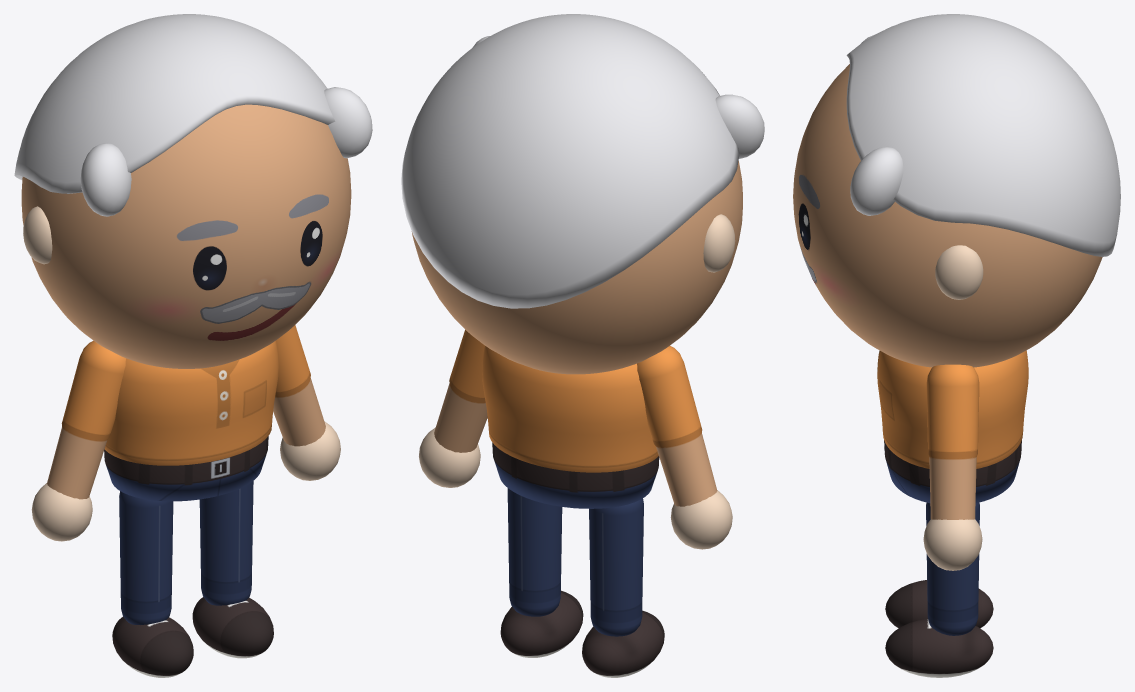
The model's file is male_03_moustache_casual.glb.
The picture shows the model from 3 angles, left to right: view 1: azimuth 30°, elevation 25°; view 2: azimuth 150°, elevation 25°; view 3: azimuth 270°, elevation 25°; orthographic projection.
Parts seen in each view (by area): view 1: male_03_moustache_Head_Base_face, male_03_moustache_Head_Base_hair, male_03_moustache_Body_Casual_shirt, male_03_moustache_ArmR_Casual_sleeve, male_03_moustache_LegR_Base_leg, male_03_moustache_LegL_Base_leg, male_03_moustache_Body_Base_hip, male_03_moustache_ArmL_Casual_sleeve, male_03_moustache_LegL_Base_shoe, male_03_moustache_LegR_Base_shoe, male_03_moustache_ArmR_Base_skin, male_03_moustache_ArmL_Base_skin (+1 smaller); view 2: male_03_moustache_Head_Base_hair, male_03_moustache_Head_Base_face, male_03_moustache_Body_Casual_shirt, male_03_moustache_ArmR_Casual_sleeve, male_03_moustache_LegR_Base_leg, male_03_moustache_LegL_Base_leg, male_03_moustache_Body_Base_hip, male_03_moustache_ArmL_Casual_sleeve, male_03_moustache_LegL_Base_shoe, male_03_moustache_LegR_Base_shoe, male_03_moustache_ArmR_Base_skin, male_03_moustache_ArmL_Base_skin (+1 smaller); view 3: male_03_moustache_Head_Base_hair, male_03_moustache_Head_Base_face, male_03_moustache_Body_Casual_shirt, male_03_moustache_ArmL_Casual_sleeve, male_03_moustache_LegL_Base_shoe, male_03_moustache_LegL_Base_leg, male_03_moustache_Body_Base_hip, male_03_moustache_ArmL_Base_skin, male_03_moustache_Head_Base_skin, male_03_moustache_LegR_Base_shoe.
Boxes of the visible parts, <box> form: male_03_moustache_Head_Base_face: <box>21,104,351,368</box>; male_03_moustache_Head_Base_hair: <box>14,14,372,216</box>; male_03_moustache_Body_Casual_shirt: <box>104,341,278,465</box>; male_03_moustache_ArmR_Casual_sleeve: <box>47,340,125,499</box>; male_03_moustache_LegR_Base_leg: <box>119,491,173,624</box>; male_03_moustache_LegL_Base_leg: <box>199,481,253,605</box>; male_03_moustache_Body_Base_hip: <box>104,436,268,501</box>; male_03_moustache_ArmL_Casual_sleeve: <box>273,325,325,446</box>; male_03_moustache_LegL_Base_shoe: <box>192,597,273,658</box>; male_03_moustache_LegR_Base_shoe: <box>112,617,193,677</box>; male_03_moustache_ArmR_Base_skin: <box>31,483,92,541</box>; male_03_moustache_ArmL_Base_skin: <box>280,421,340,480</box>; male_03_moustache_Head_Base_hair: <box>401,14,764,308</box>; male_03_moustache_Head_Base_face: <box>411,161,742,374</box>; male_03_moustache_Body_Casual_shirt: <box>482,346,658,472</box>; male_03_moustache_ArmR_Casual_sleeve: <box>637,346,717,506</box>; male_03_moustache_LegR_Base_leg: <box>589,498,643,636</box>; male_03_moustache_LegL_Base_leg: <box>507,488,562,616</box>; male_03_moustache_Body_Base_hip: <box>492,442,659,508</box>; male_03_moustache_ArmL_Casual_sleeve: <box>434,329,487,452</box>; male_03_moustache_LegL_Base_shoe: <box>500,590,583,657</box>; male_03_moustache_LegR_Base_shoe: <box>582,610,664,677</box>; male_03_moustache_ArmR_Base_skin: <box>670,490,732,549</box>; male_03_moustache_ArmL_Base_skin: <box>419,427,480,487</box>; male_03_moustache_Head_Base_hair: <box>846,14,1120,256</box>; male_03_moustache_Head_Base_face: <box>793,64,1102,367</box>; male_03_moustache_Body_Casual_shirt: <box>877,350,1028,468</box>; male_03_moustache_ArmL_Casual_sleeve: <box>926,364,979,519</box>; male_03_moustache_LegL_Base_shoe: <box>885,618,993,677</box>; male_03_moustache_LegL_Base_leg: <box>926,502,979,635</box>; male_03_moustache_Body_Base_hip: <box>884,440,1021,503</box>; male_03_moustache_ArmL_Base_skin: <box>923,519,982,570</box>; male_03_moustache_Head_Base_skin: <box>935,245,983,299</box>; male_03_moustache_LegR_Base_shoe: <box>885,580,993,628</box>.
Size of the model in its own units: 0.584 by 1.12 by 0.533.
Materials: 8 (6 with a texture image).
